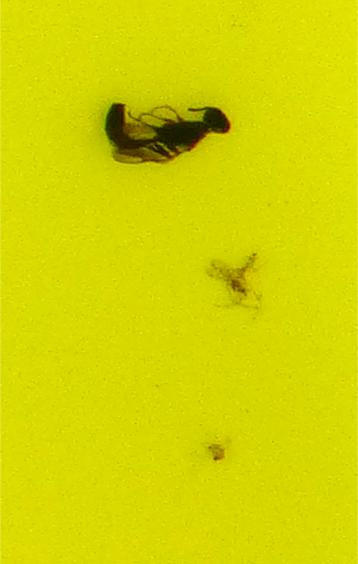Hymenoptera: (100, 100, 233, 165)
Nematocera: (207, 251, 258, 307), (204, 440, 228, 464)
